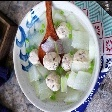dongguawanzi: (22, 13, 100, 102)
